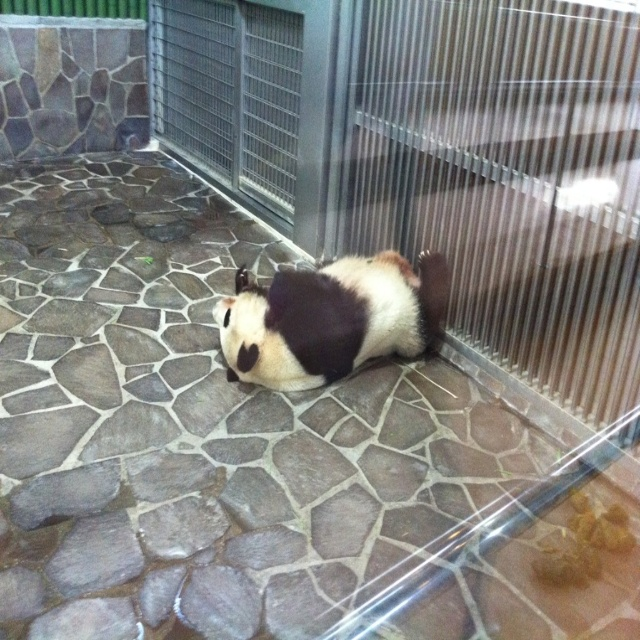Panda: (210, 248, 444, 392)
